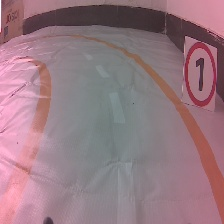limit: (181, 33, 219, 114)
